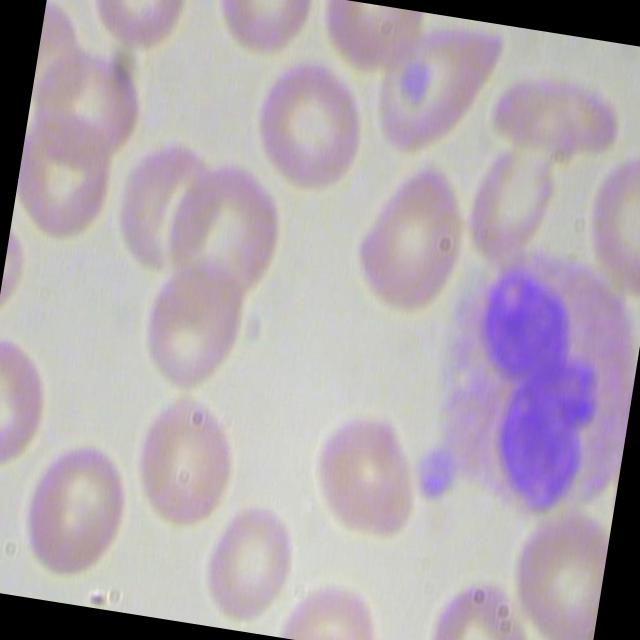Platelets: (409, 442, 462, 507)
RBC: (340, 148, 482, 328), (286, 394, 443, 556), (370, 8, 512, 168), (156, 152, 292, 315), (241, 45, 380, 204), (131, 249, 257, 404), (126, 382, 252, 536), (17, 428, 142, 582), (10, 106, 126, 250), (198, 478, 309, 627), (24, 38, 150, 164), (488, 53, 632, 161), (210, 0, 318, 82), (84, 0, 192, 63)
WBC: (421, 237, 640, 534)
